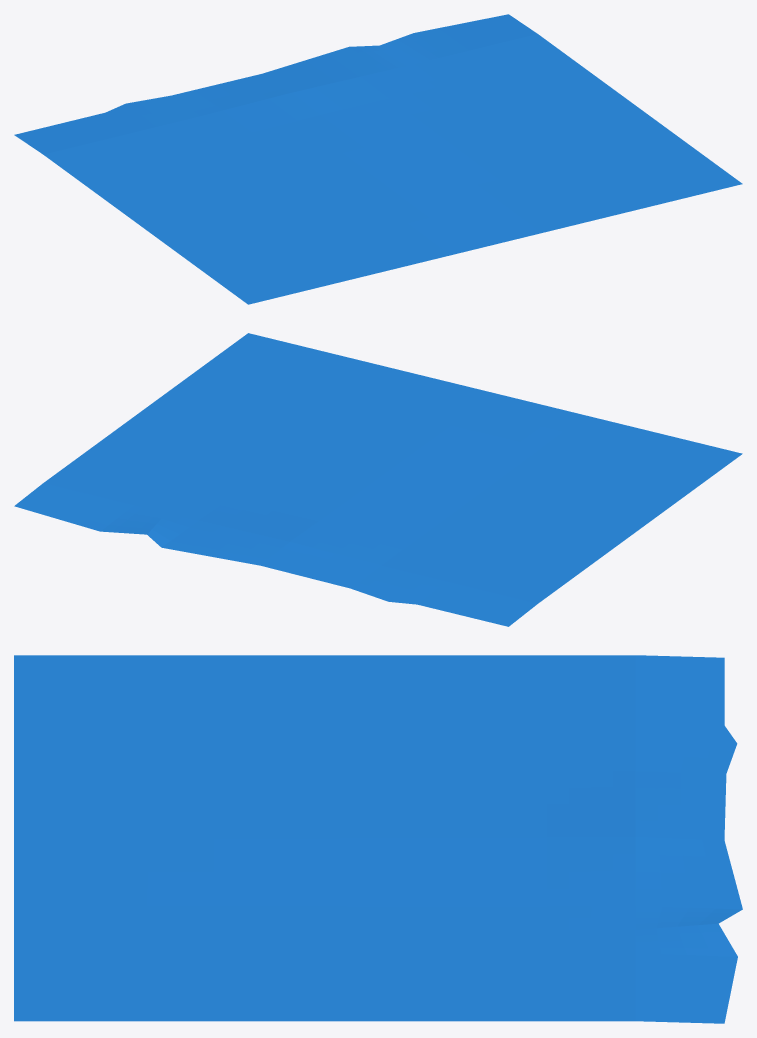
The model's file is agua.fbx.
The picture shows the model from 3 angles, top to bottom: view 1: azimuth 30°, elevation 25°; view 2: azimuth 150°, elevation 25°; view 3: azimuth 270°, elevation 25°; orthographic projection. The views are drawn at different scales.
Parts seen in each view (by area): view 1: Plane.002; view 2: Plane.002; view 3: Plane.002.
Part boxes in pixels (<box>): Plane.002: <box>14,14,742,304</box>; Plane.002: <box>14,333,742,626</box>; Plane.002: <box>14,655,742,1023</box>.
Size of the model in its own units: 104937 by 633 by 88317.
